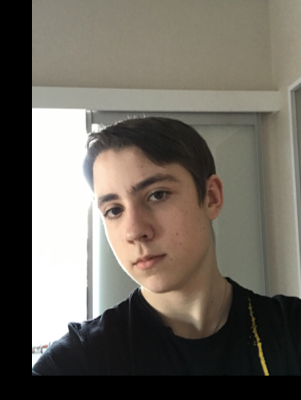without_mask: (93, 169, 191, 295)
